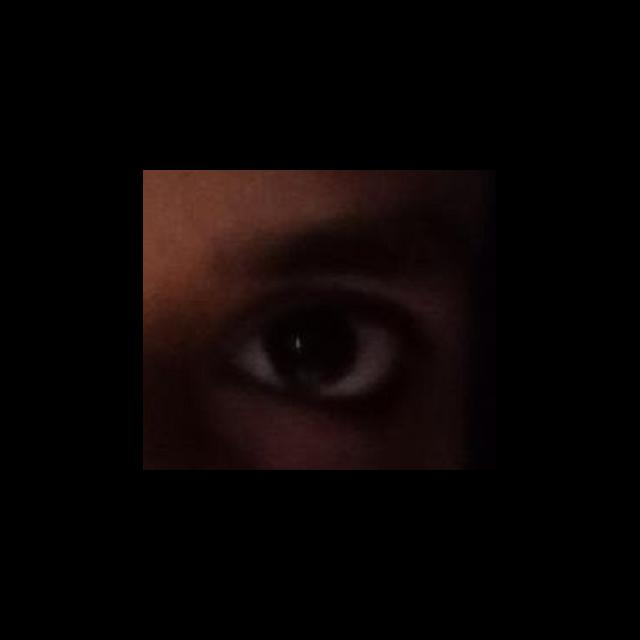eye: (228, 307, 404, 400)
iris: (265, 313, 360, 391)
